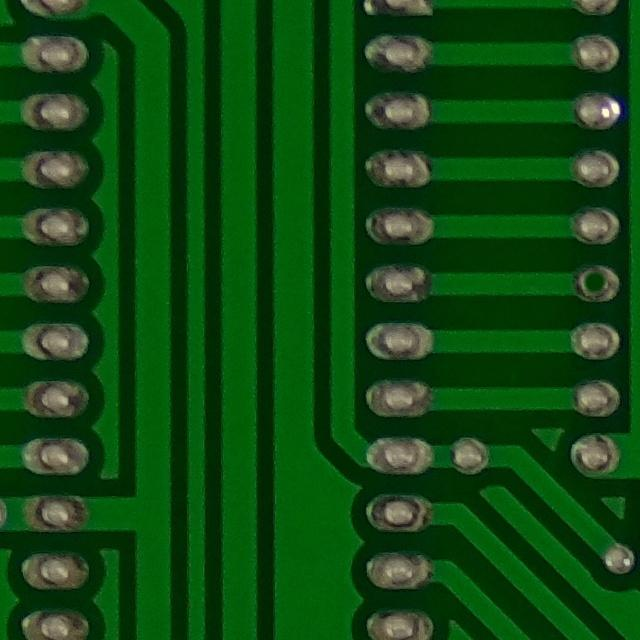missing_hole: (572, 258, 629, 309)
